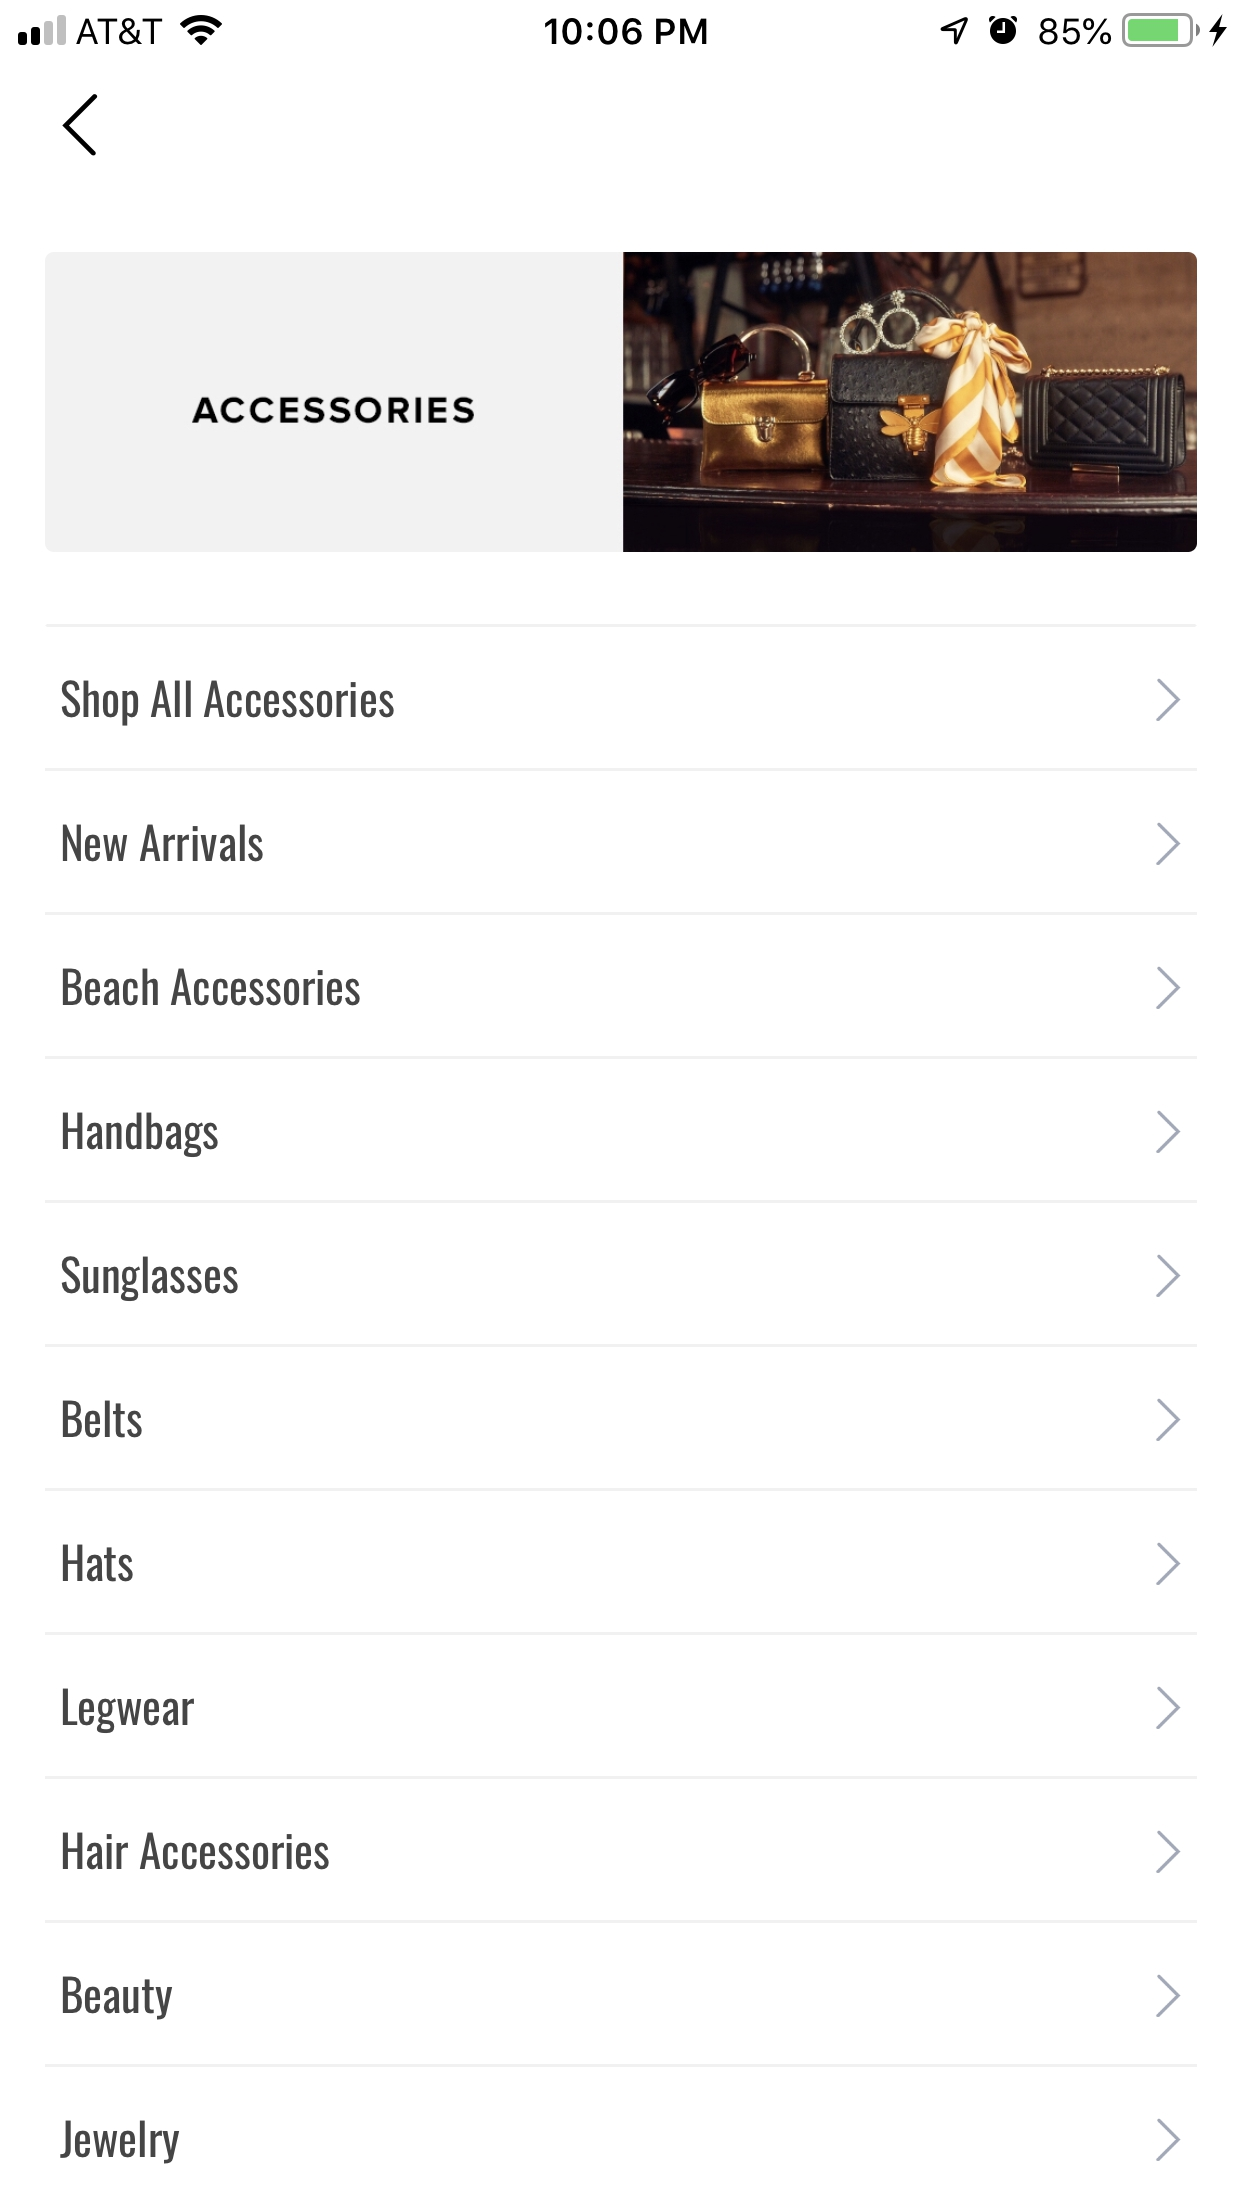Icon: (64, 94, 99, 158), (1156, 2119, 1181, 2163), (1156, 1974, 1181, 2018), (1156, 1830, 1181, 1874), (1156, 1686, 1181, 1730), (1156, 1542, 1181, 1586), (1156, 1398, 1181, 1442), (1156, 1254, 1181, 1298), (1156, 1110, 1181, 1154), (1156, 966, 1181, 1010), (1156, 678, 1181, 722), (1156, 823, 1181, 866)
Image: (623, 252, 1198, 554)
Text: (62, 679, 396, 728), (64, 968, 362, 1007), (64, 1832, 331, 1871), (62, 1256, 240, 1303), (193, 396, 475, 425), (64, 823, 265, 863), (64, 1112, 220, 1159), (64, 1686, 196, 1733), (61, 2119, 180, 2166), (64, 1976, 174, 2021), (64, 1400, 144, 1439), (64, 1542, 135, 1583)
UpperTaskBar: (2, 2, 1242, 49)
